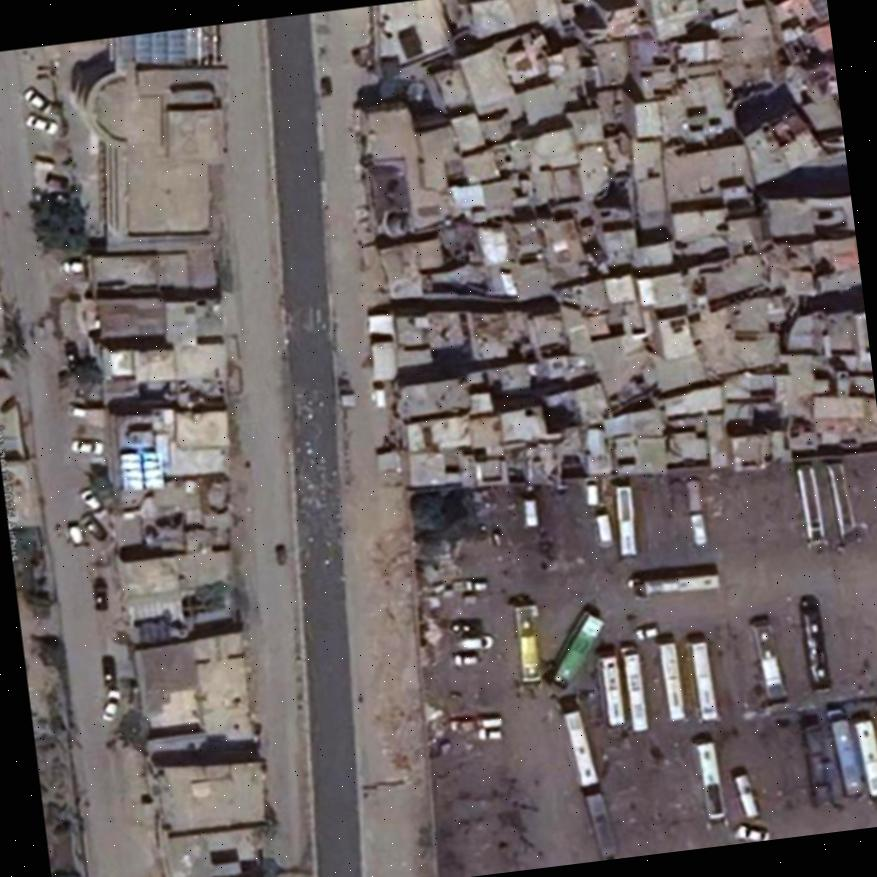Solarpanel: (120, 452, 162, 488)
